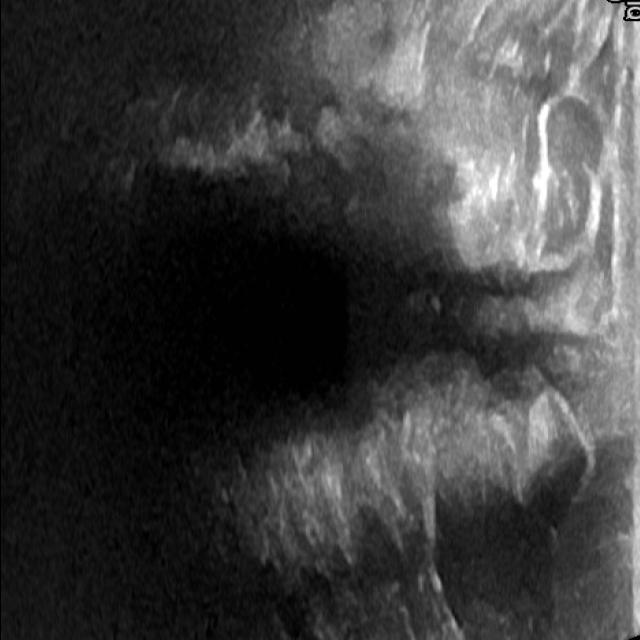Malignant: (388, 256, 564, 404)
